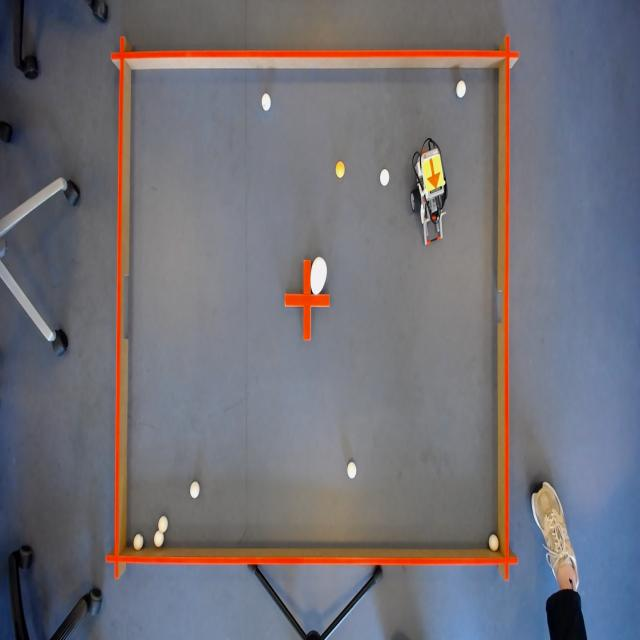cross: (283, 256, 331, 344)
egg: (308, 256, 328, 295)
orange_ball: (335, 158, 346, 180)
robot: (420, 152, 445, 196)
white_ball: (259, 91, 273, 114), (454, 77, 467, 101), (345, 460, 359, 482), (488, 530, 500, 554), (379, 166, 391, 190), (188, 479, 201, 501), (156, 514, 170, 534), (132, 532, 145, 553), (152, 530, 165, 548)
